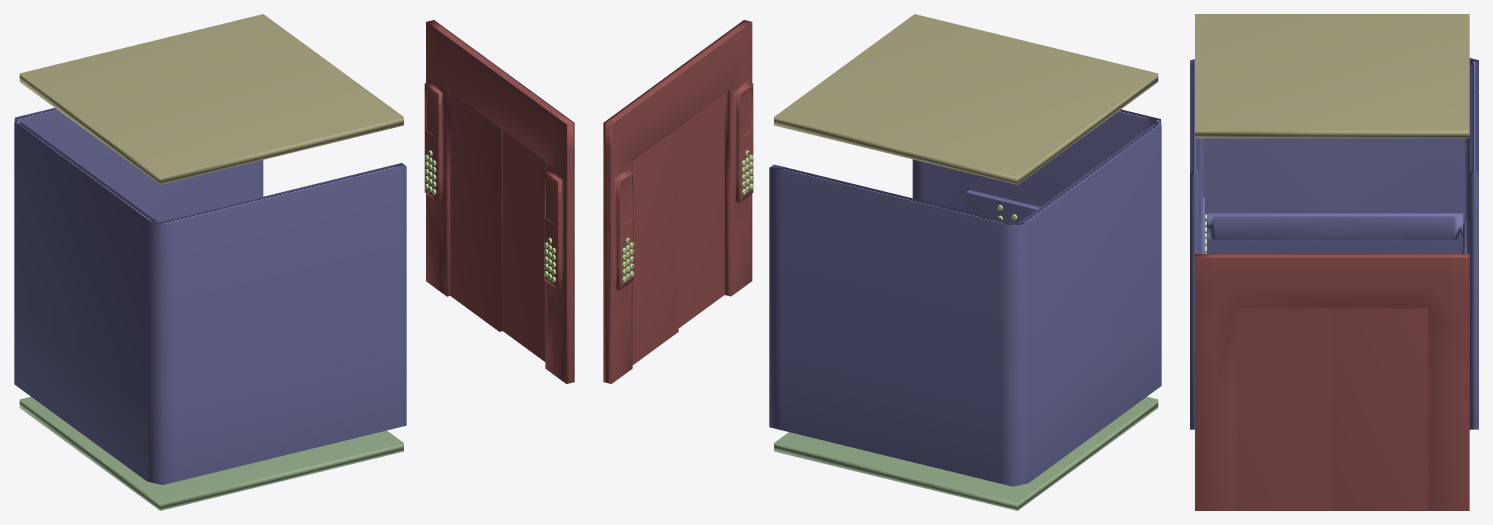
Rendered from MOD_ELEVATOR Elevator.fbx.
3 views of the same model, side by side, from view 1: azimuth 30°, elevation 25°; view 2: azimuth 150°, elevation 25°; view 3: azimuth 270°, elevation 25° (orthographic). The views are drawn at different scales.
Parts seen in each view (by area): view 1: ElevatorWalls, ElevatorCeiling, ElevatorDoorFrame, ElevatorLeftdoor, ElevatorFloor, ElevatorRightDoor; view 2: ElevatorWalls, ElevatorCeiling, ElevatorDoorFrame, ElevatorRightDoor, ElevatorLeftdoor, ElevatorFloor; view 3: ElevatorWalls, ElevatorCeiling, ElevatorDoorFrame, ElevatorRightDoor, ElevatorLeftdoor.
Part boxes in pixels (box(x1,y1,x2,y2)): ElevatorWalls: box(14, 108, 406, 484); ElevatorCeiling: box(19, 14, 403, 184); ElevatorDoorFrame: box(424, 20, 574, 383); ElevatorLeftdoor: box(450, 92, 502, 331); ElevatorFloor: box(19, 396, 403, 510); ElevatorRightDoor: box(502, 130, 545, 361); ElevatorWalls: box(769, 109, 1161, 486); ElevatorCeiling: box(774, 14, 1158, 184); ElevatorDoorFrame: box(603, 20, 753, 383); ElevatorRightDoor: box(678, 94, 724, 327); ElevatorLeftdoor: box(632, 128, 678, 364); ElevatorFloor: box(774, 396, 1158, 510); ElevatorWalls: box(1190, 58, 1478, 429); ElevatorCeiling: box(1195, 14, 1469, 138); ElevatorDoorFrame: box(1195, 254, 1469, 510); ElevatorRightDoor: box(1236, 308, 1332, 510); ElevatorLeftdoor: box(1332, 308, 1428, 510).
Bounding box in the file's own units: 520 × 393 × 315.
